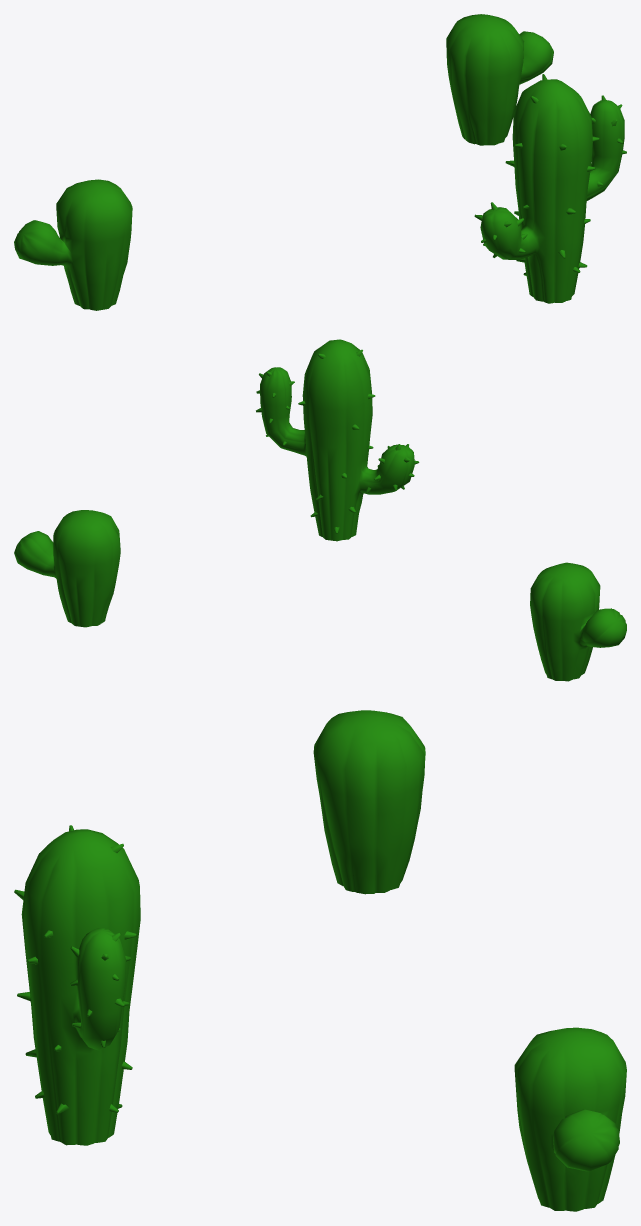
The model's file is Model_Cactus 2.fbx.
The picture shows the model from 3 angles, top to bottom: view 1: azimuth 30°, elevation 25°; view 2: azimuth 150°, elevation 25°; view 3: azimuth 270°, elevation 25°; orthographic projection. The views are drawn at different scales.
Visible parts, largest first — view 1: Obj3d66-1611312-10-674, Obj3d66-1611312-3-571, Obj3d66-1611312-3-570, Obj3d66-1611312-9-718; view 2: Obj3d66-1611312-10-674, Obj3d66-1611312-3-570, Obj3d66-1611312-3-571, Obj3d66-1611312-9-718; view 3: Obj3d66-1611312-10-674, Obj3d66-1611312-3-570, Obj3d66-1611312-3-571, Obj3d66-1611312-9-718.
Boxes of the visible parts, x1=… form: Obj3d66-1611312-10-674: x1=480, y1=79, x2=624, y2=303; Obj3d66-1611312-3-571: x1=14, y1=179, x2=132, y2=310; Obj3d66-1611312-3-570: x1=446, y1=14, x2=553, y2=145; Obj3d66-1611312-9-718: x1=474, y1=74, x2=626, y2=275; Obj3d66-1611312-10-674: x1=260, y1=339, x2=414, y2=541; Obj3d66-1611312-3-570: x1=14, y1=510, x2=120, y2=627; Obj3d66-1611312-3-571: x1=530, y1=562, x2=626, y2=681; Obj3d66-1611312-9-718: x1=256, y1=349, x2=419, y2=533; Obj3d66-1611312-10-674: x1=21, y1=829, x2=140, y2=1145; Obj3d66-1611312-3-570: x1=514, y1=1027, x2=626, y2=1211; Obj3d66-1611312-3-571: x1=313, y1=710, x2=425, y2=894; Obj3d66-1611312-9-718: x1=14, y1=825, x2=136, y2=1114.
Bounding box in the file's own units: 911 × 306 × 566.
